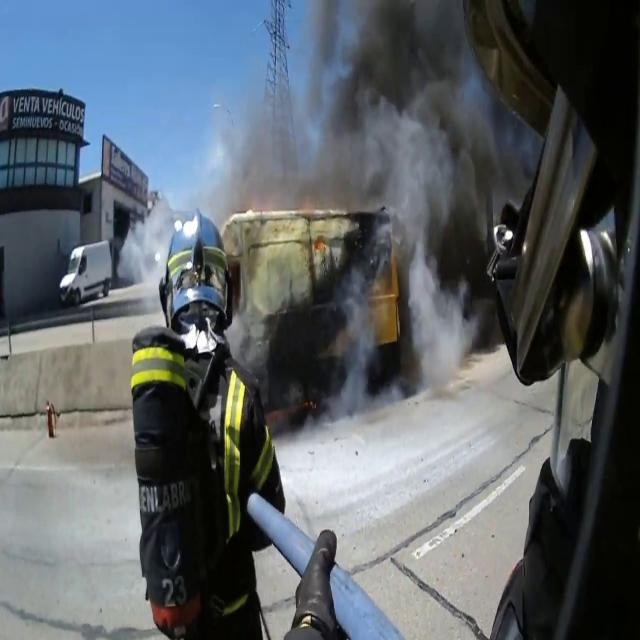Smoke: (207, 1, 515, 408), (118, 190, 190, 292)
